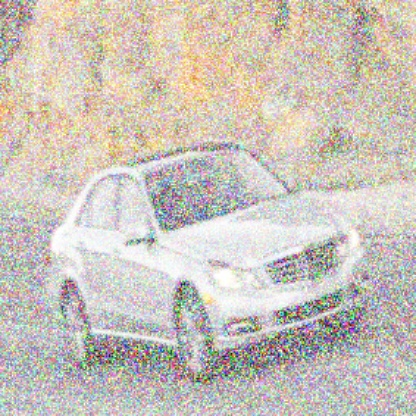Vehicle: (45, 140, 373, 385)
